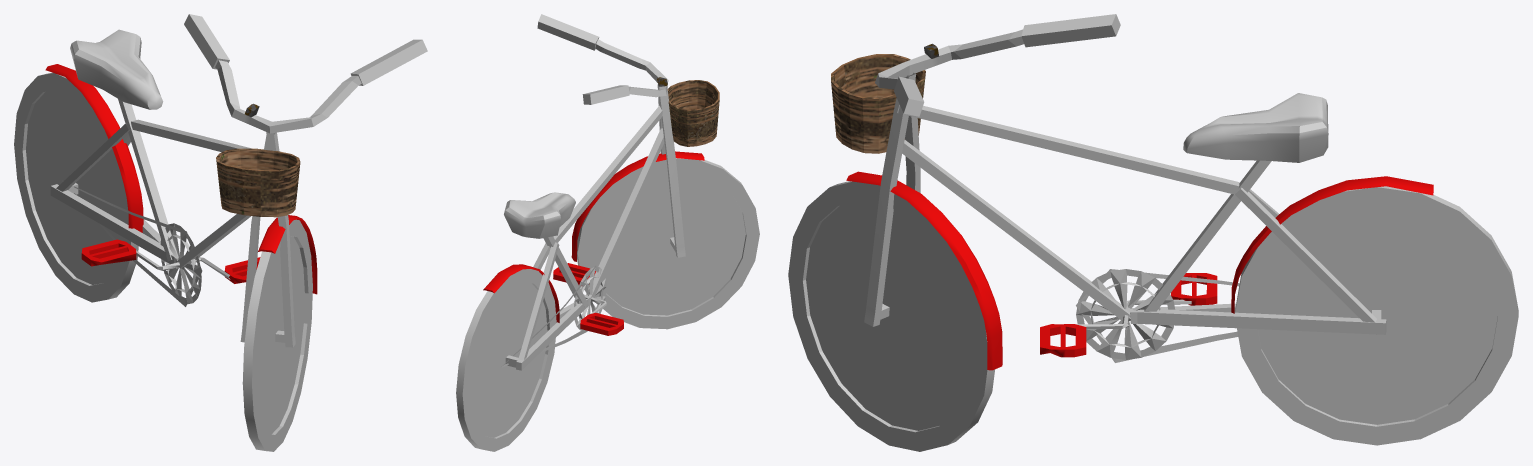
File: m_bike.fbx
3 renders of one model, left to right at view 1: azimuth 30°, elevation 25°; view 2: azimuth 150°, elevation 25°; view 3: azimuth 270°, elevation 25°, orthographic. The views are drawn at different scales.
Visible parts, largest first — view 1: pCube340; view 2: pCube340; view 3: pCube340.
Part boxes in pixels (box(x1,y1,x2,y2)): pCube340: box(14, 14, 427, 451); pCube340: box(456, 14, 759, 451); pCube340: box(788, 14, 1518, 451).
Bounding box in the file's own units: 251 × 376 × 574.
